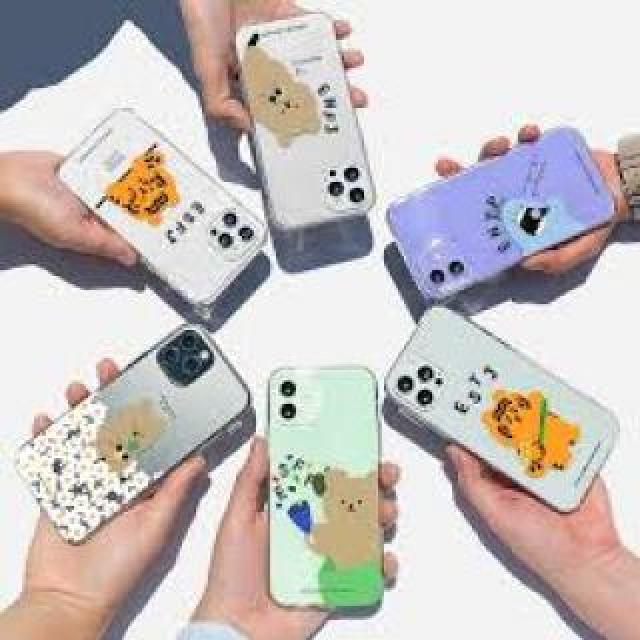smart phone: (32, 320, 262, 548), (400, 303, 613, 502), (63, 112, 272, 303), (270, 344, 405, 628), (396, 150, 640, 294), (230, 12, 380, 230)
